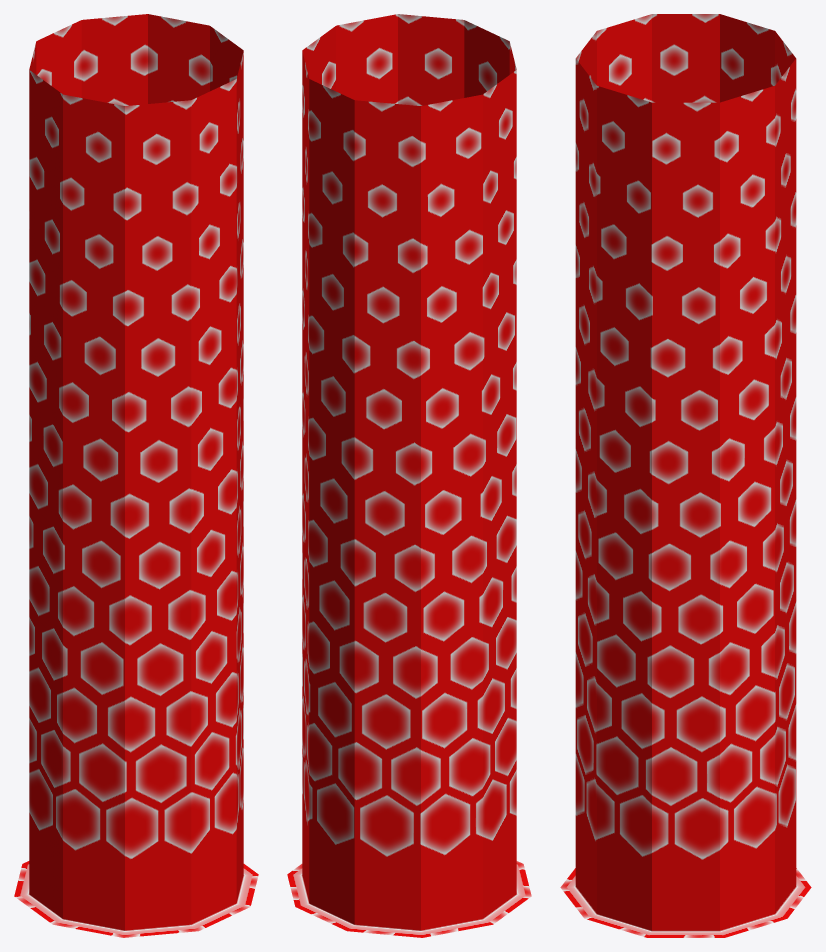
Rendered from antijetcol.fbx.
3 views of the same model, side by side, from view 1: azimuth 30°, elevation 25°; view 2: azimuth 150°, elevation 25°; view 3: azimuth 270°, elevation 25° (orthographic).
Visible parts, largest first — view 1: antil je col; view 2: antil je col; view 3: antil je col.
Part boxes in pixels (bbox=[...]): antil je col: bbox=[14, 14, 258, 937]; antil je col: bbox=[287, 14, 531, 937]; antil je col: bbox=[560, 14, 811, 937].
Bounding box in the file's own units: 635 × 2431 × 667.
Materials: 1 (1 with a texture image).
